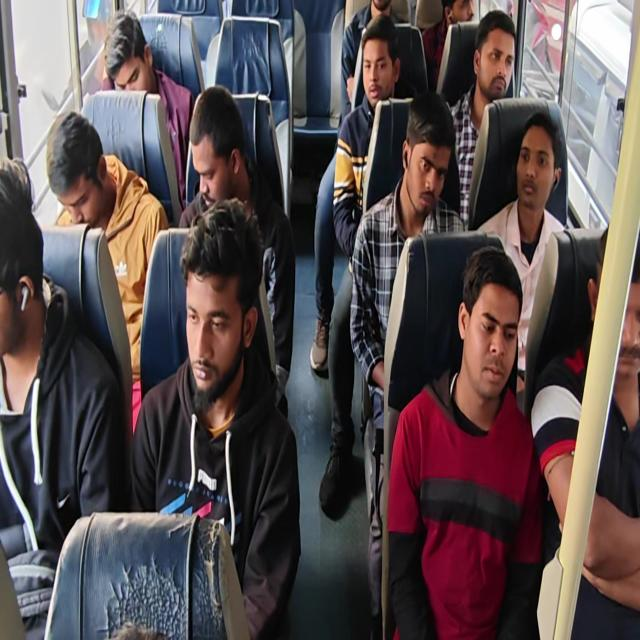person: (179, 217, 260, 412), (0, 160, 44, 353), (457, 253, 511, 406), (45, 113, 108, 231), (592, 233, 640, 381), (190, 96, 247, 210), (96, 18, 158, 104), (399, 111, 450, 214), (512, 118, 564, 209), (470, 29, 524, 90), (426, 0, 478, 39), (365, 28, 391, 104), (356, 0, 394, 16)
